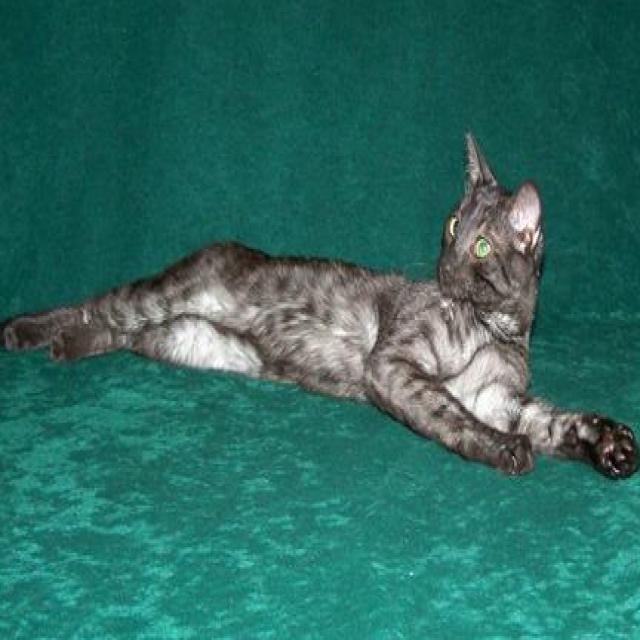Egyptian Mau: (0, 126, 640, 482)
